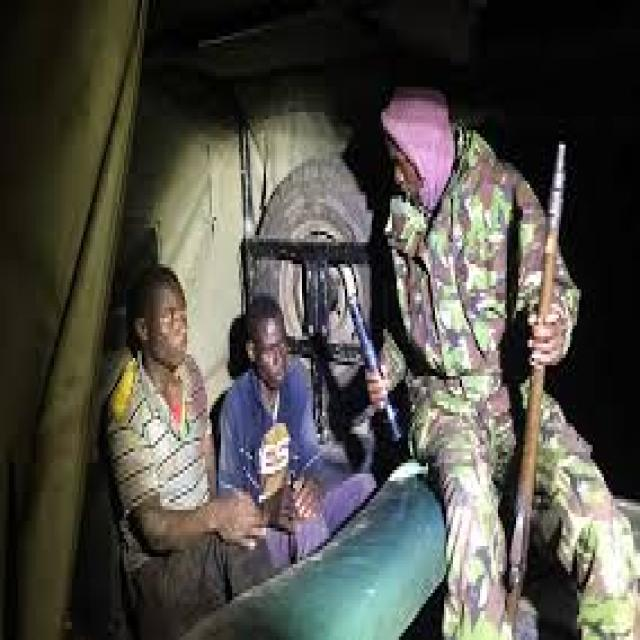poacher: (83, 244, 241, 560), (247, 247, 332, 542)
ranger: (362, 59, 510, 512)
weapon: (478, 112, 602, 640)
